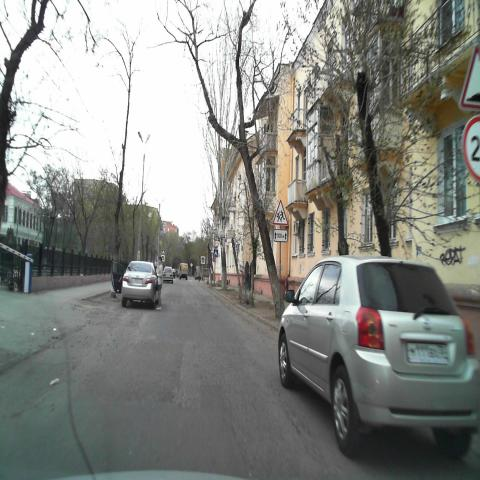8_2_1: (273, 228, 287, 243)
